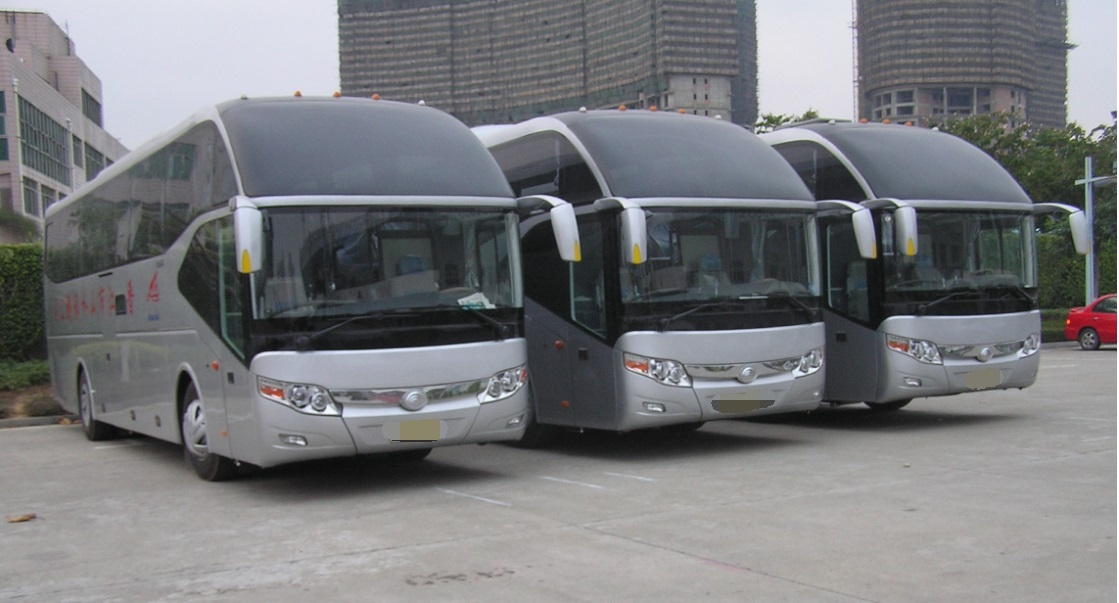bus: (32, 90, 551, 480), (493, 103, 858, 454), (768, 114, 1071, 416)
